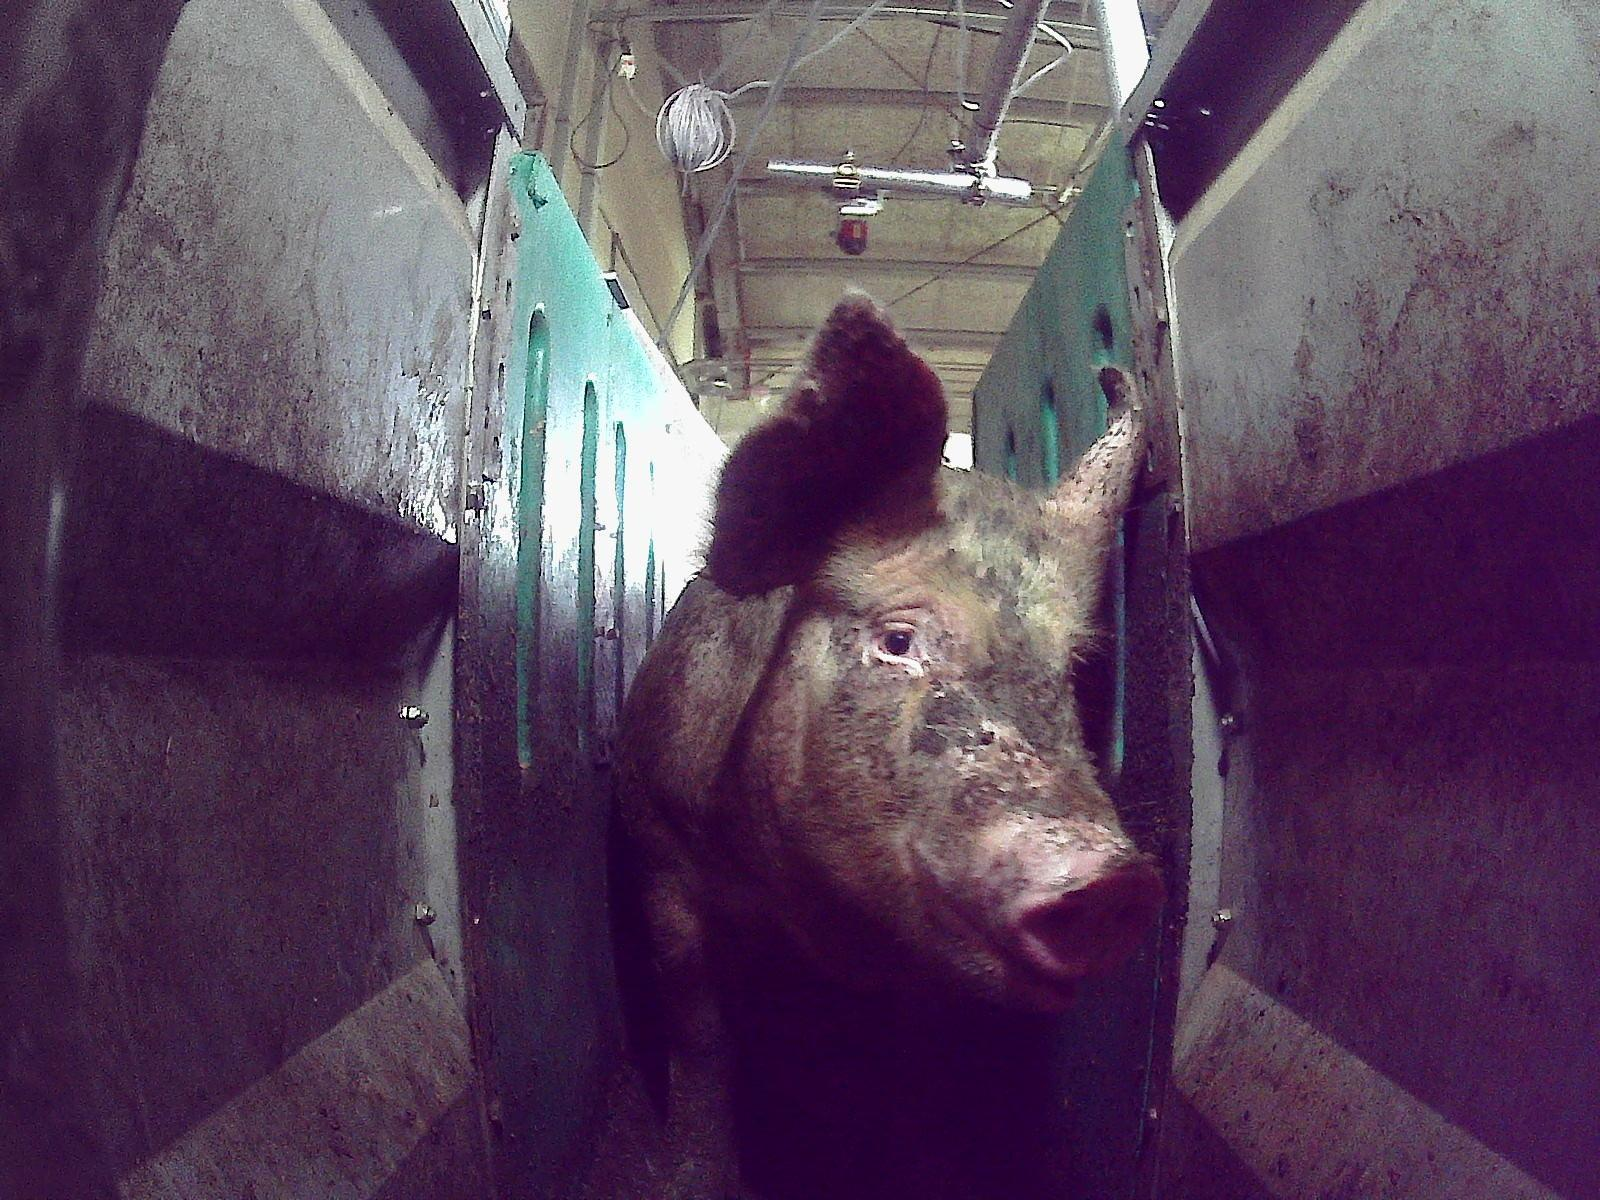Face: (717, 462, 1164, 1018)
